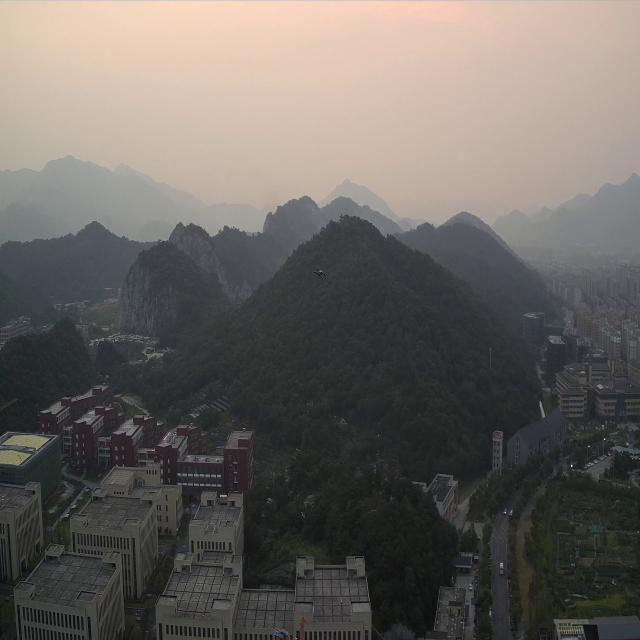UAV: (313, 264, 327, 280)
